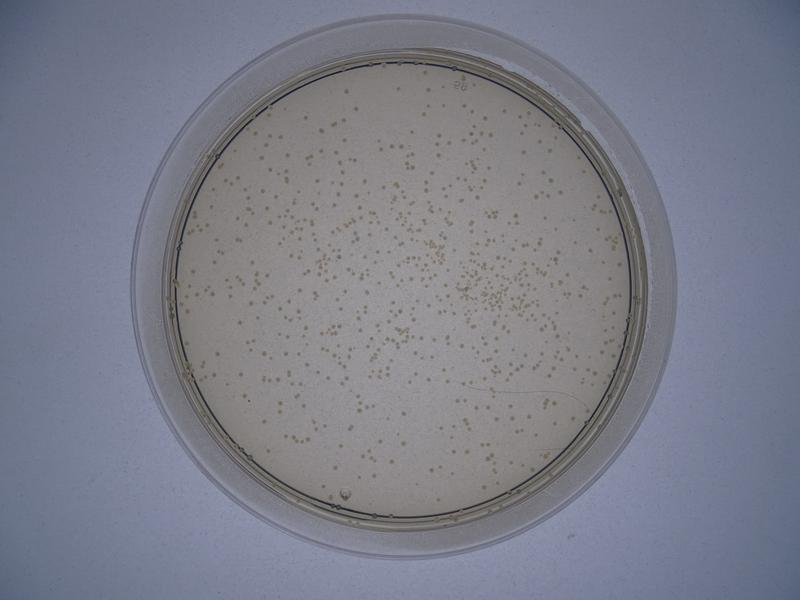colony: (335, 440, 346, 453), (477, 480, 488, 492), (275, 132, 287, 142), (212, 350, 223, 360), (258, 416, 269, 426), (398, 408, 408, 418), (247, 257, 258, 266), (340, 135, 351, 143), (540, 212, 549, 221), (388, 457, 396, 466), (362, 288, 370, 297), (520, 148, 528, 156), (351, 105, 359, 112)
